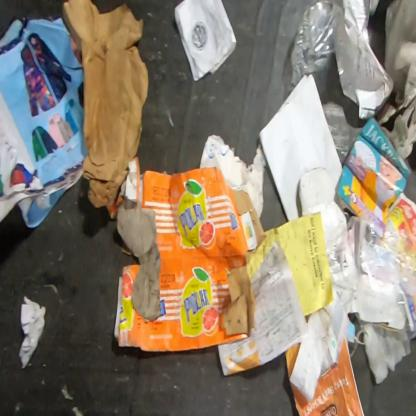cardboard: (107, 154, 267, 353), (61, 0, 150, 208), (336, 117, 414, 220), (199, 134, 267, 219), (332, 282, 405, 332), (298, 167, 336, 211)
soft_plastic: (301, 202, 415, 339), (290, 0, 342, 88)
